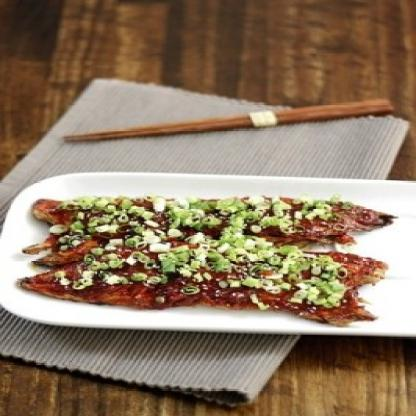Peixe: (0, 181, 416, 328)
